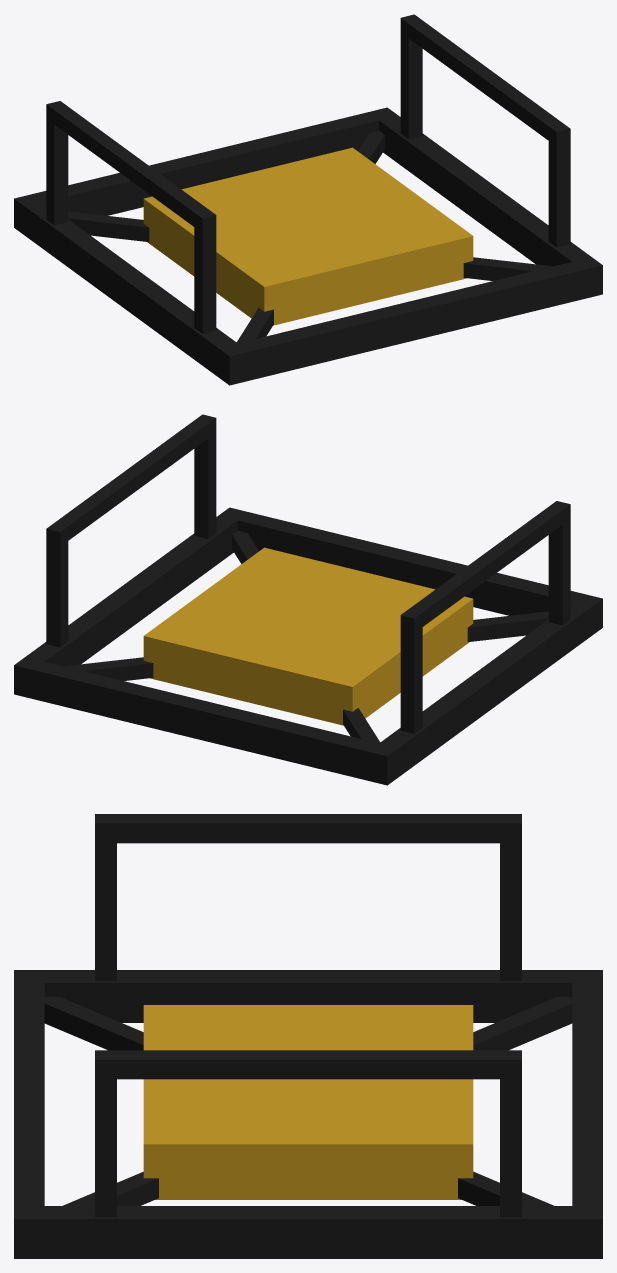
3 renders of one model, top to bottom at view 1: azimuth 30°, elevation 25°; view 2: azimuth 150°, elevation 25°; view 3: azimuth 270°, elevation 25°, orthographic. The views are drawn at different scales.
Visible parts, largest first — view 1: dr5_base; view 2: dr5_base; view 3: dr5_base.
Part boxes in pixels (x1=…): dr5_base: x1=14, y1=14, x2=602, y2=385; dr5_base: x1=14, y1=414, x2=602, y2=785; dr5_base: x1=14, y1=814, x2=602, y2=1258.
Bounding box in the file's own units: 2.68 × 0.991 × 2.68.
